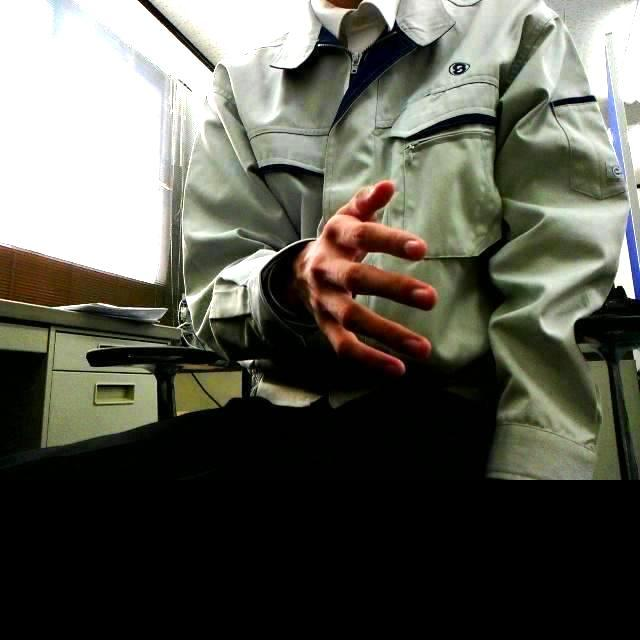pa-: (299, 178, 439, 382)
